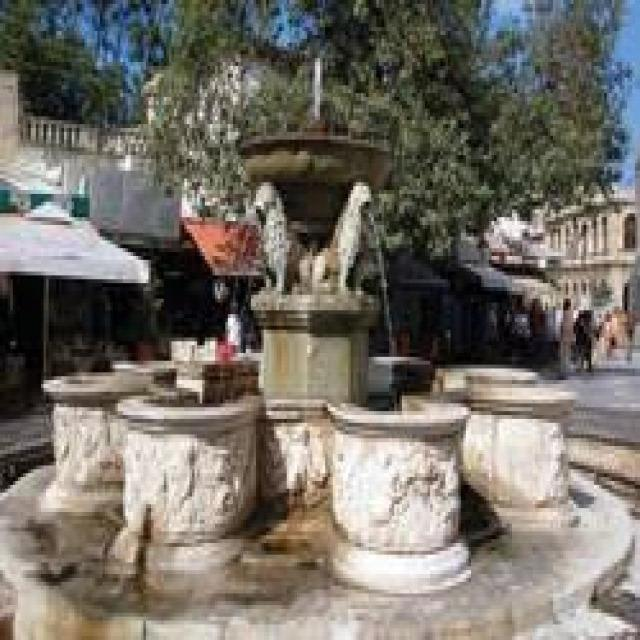Liontaria: (44, 120, 590, 572)
